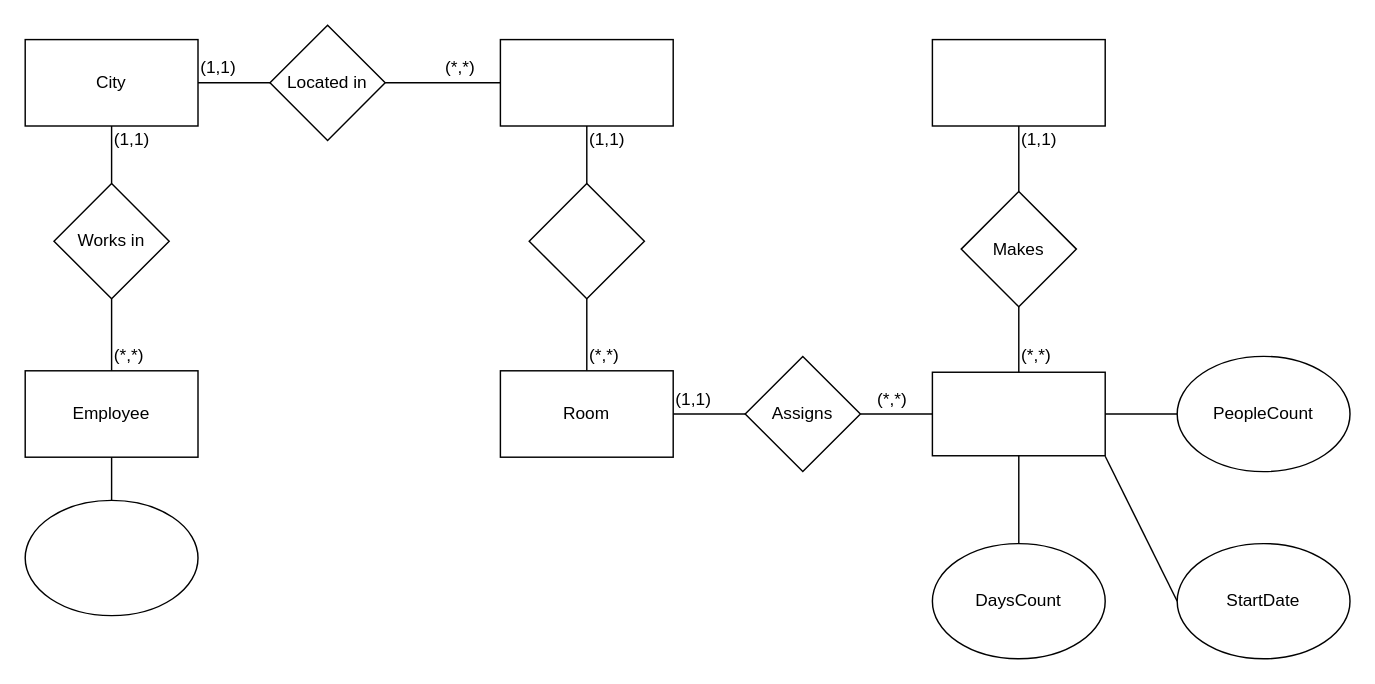
Image size: 1375x684. Some labels were removed from this diagram. Each missing label, with the centre of its shape:
Client: pixel 1018 82
Exists in: pixel 586 240
Hotel: pixel 586 82
JobTitle: pixel 111 557
Reservation: pixel 1018 413
